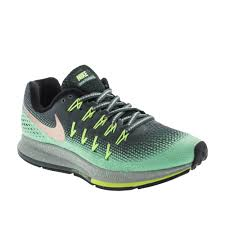nike: (25, 109, 67, 144)
